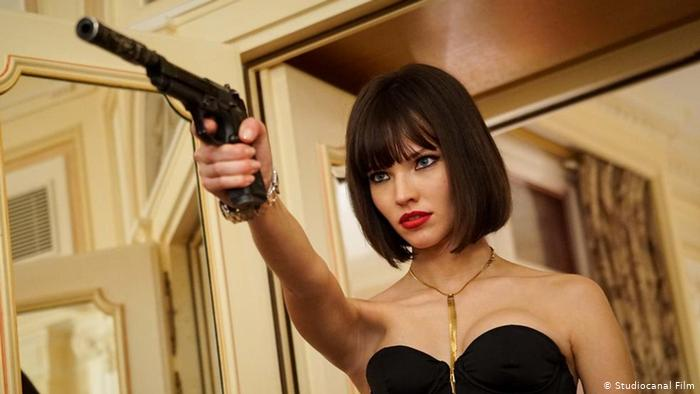gun: (70, 12, 269, 219)
